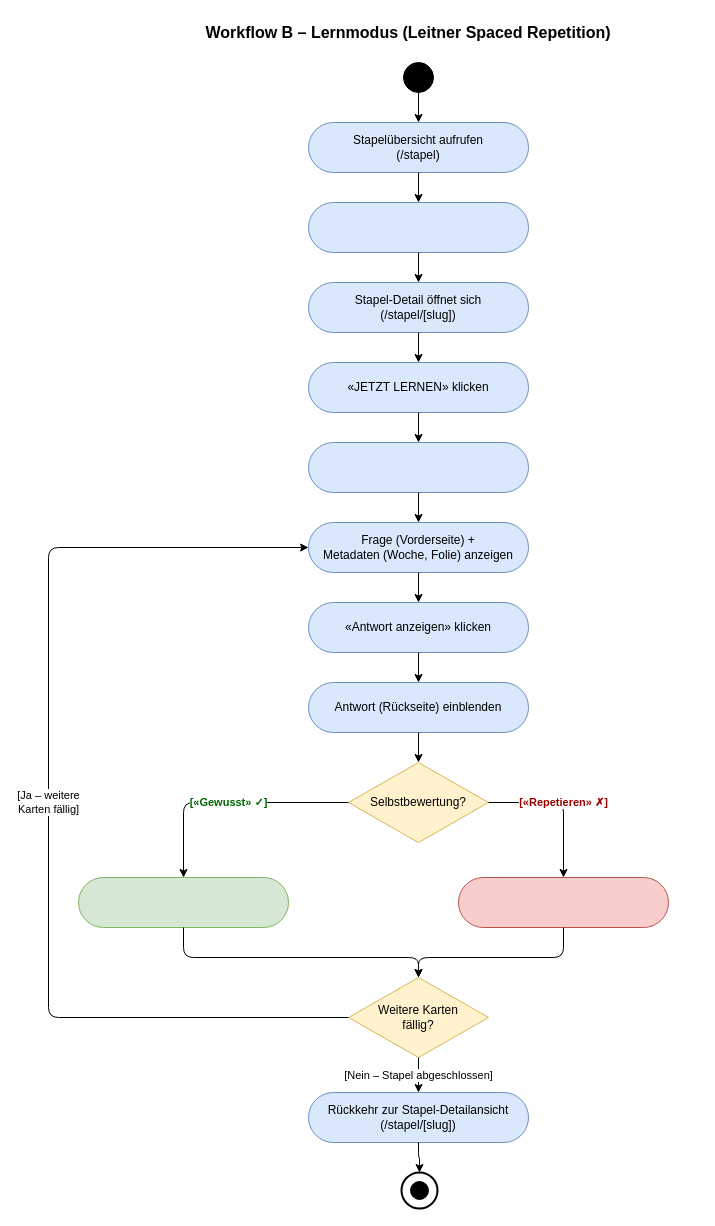
Image size: 715x1226. Some labels were removed from this diagram. Here are the shapes that lost their labels. From the top down, the centre of each, then its label:
At [418,227]: "«Öffnen» bei Stapel klicken".
At [418,467]: "Lernmodus startet; priorisierte Karte laden (/stapel/[slug]/lernen)".
At [183,902]: "Leitner-Box +1; nächstes Review-Datum berechnen".
At [563,902]: "Leitner-Box auf Box 1 zurücksetzen".
